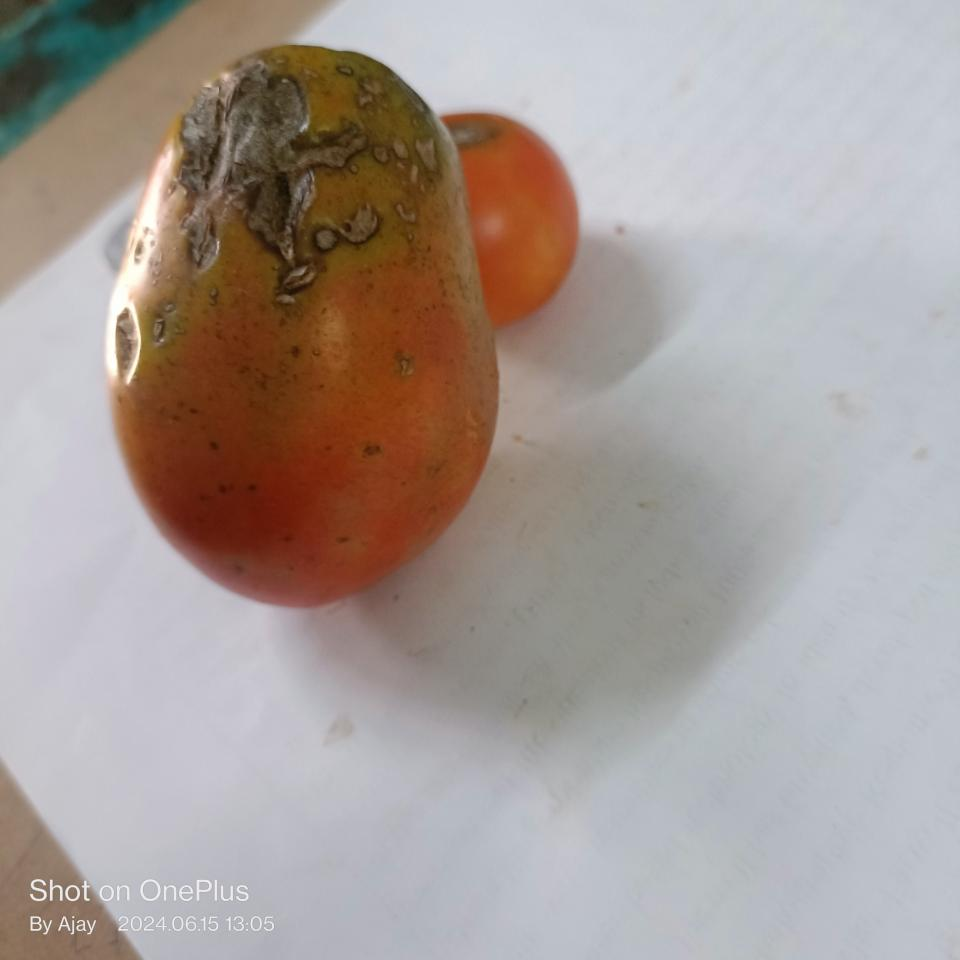Bacterial_Spot: (183, 106, 317, 294), (324, 129, 386, 257), (227, 68, 296, 98), (408, 134, 436, 184), (356, 78, 386, 112), (394, 204, 418, 222), (400, 357, 414, 376), (338, 65, 350, 74), (409, 91, 415, 105), (398, 80, 407, 88)
